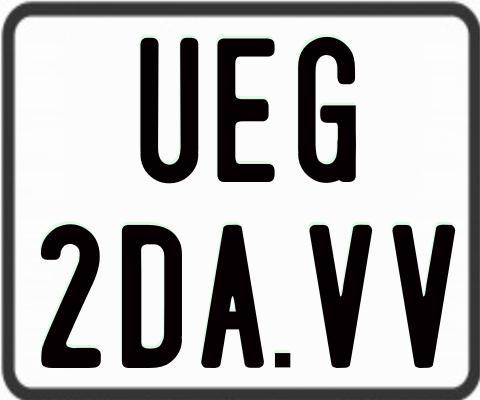2: (41, 222, 101, 370)
A: (198, 225, 265, 374)
D: (122, 222, 185, 371)
E: (214, 35, 278, 183)
G: (296, 36, 355, 187)
U: (138, 38, 196, 189)
V: (307, 225, 376, 371), (389, 225, 453, 374)
